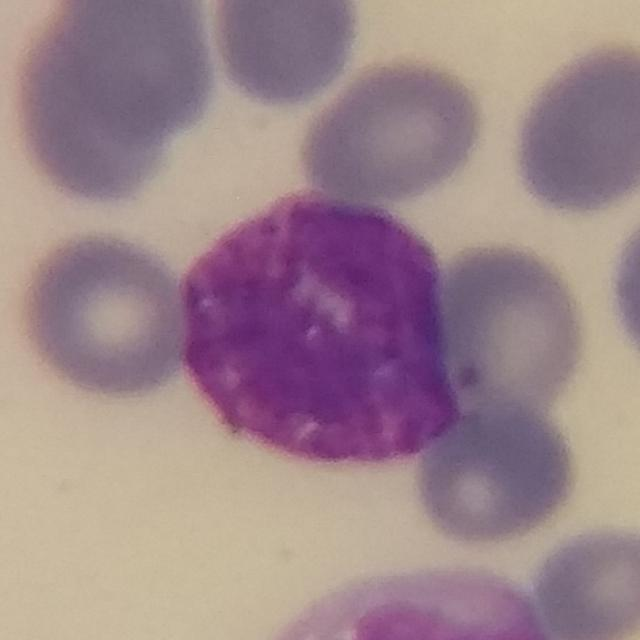baso: (171, 188, 477, 469)
